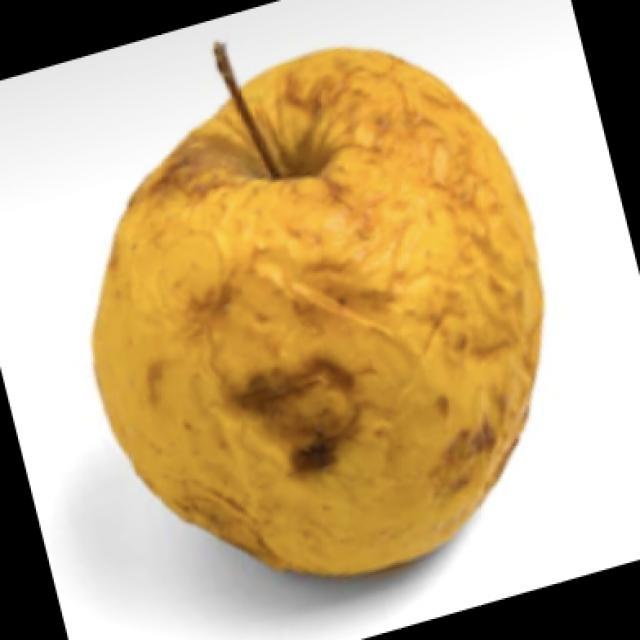Rotten: (122, 57, 518, 563)
